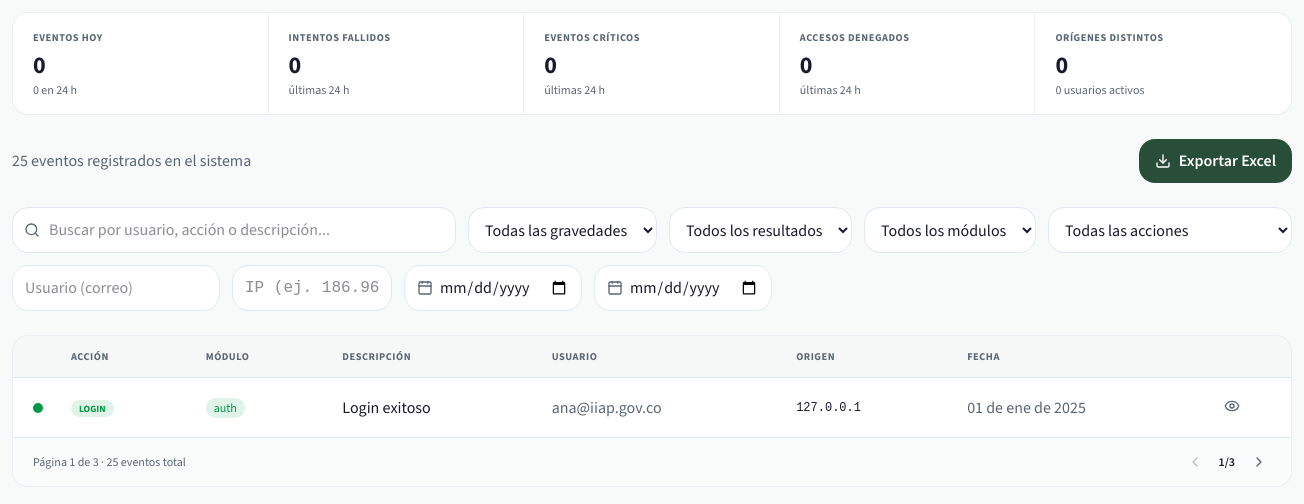
Test case: AuditoriaTab — paginación › avanzar de página solicita el siguiente offset a la API
Expected: the cell "Login" is shown, [51,378,186,437]
Click the 7th button at (1259, 462), box [1247,450,1271,474]
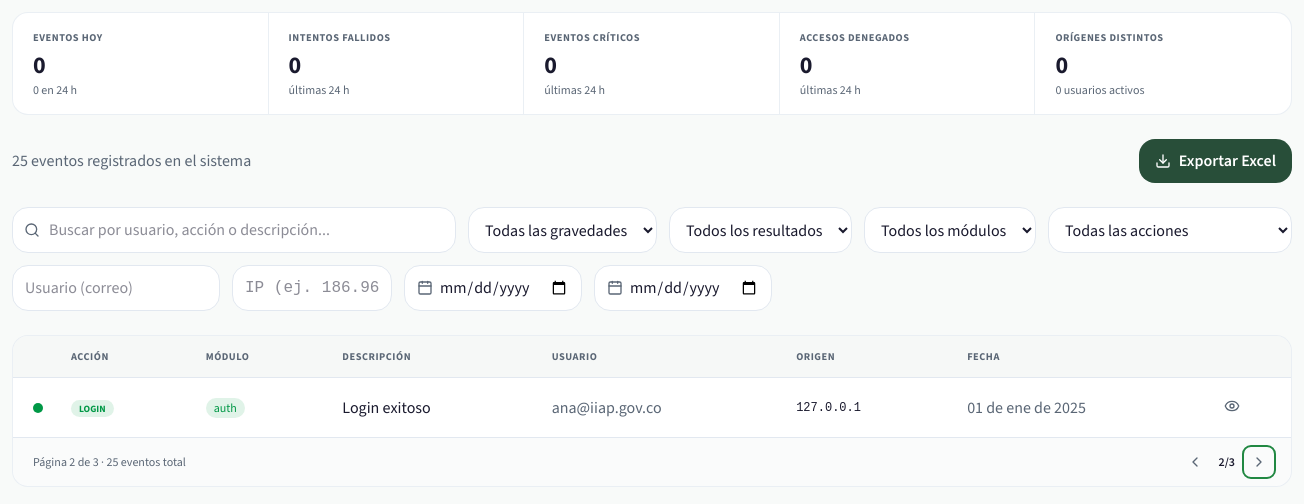
Expected: the text "Página 2 de 3 · 25 eventos total" is shown, [33,454,186,470]
